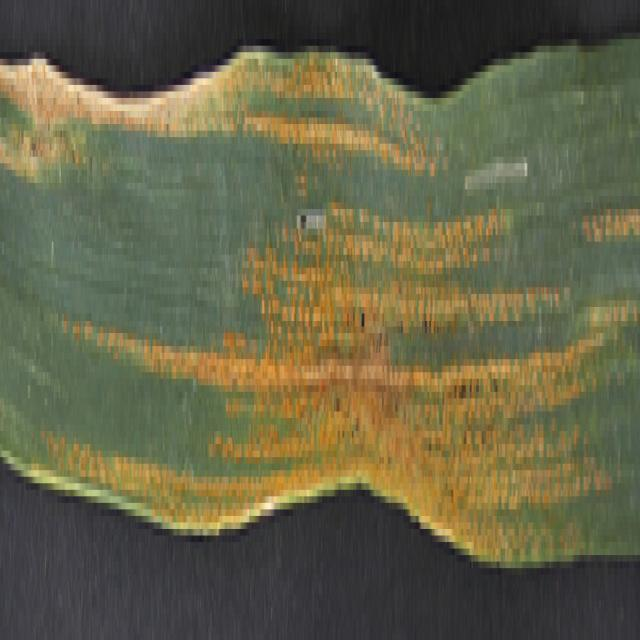leaf rust: (75, 59, 638, 542)
